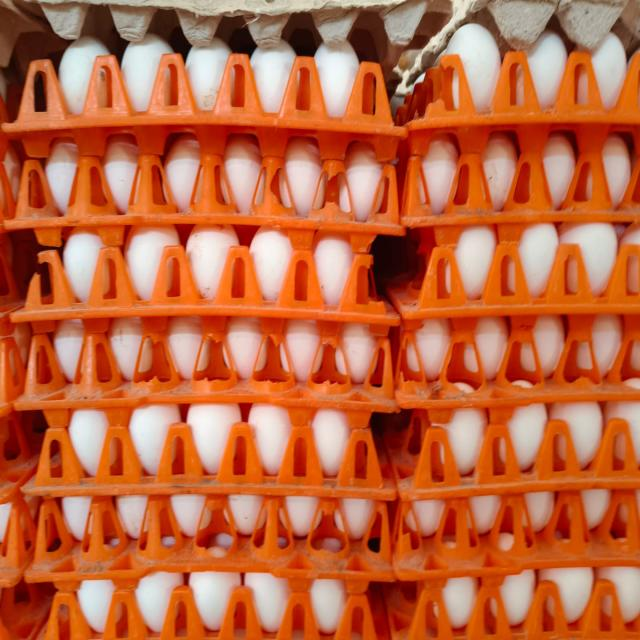egg_tray: (12, 35, 404, 244), (6, 54, 404, 237), (3, 36, 405, 161), (402, 34, 640, 226), (3, 132, 404, 245), (386, 402, 640, 579), (14, 225, 399, 326), (24, 403, 395, 506), (15, 316, 395, 412), (26, 494, 393, 581), (400, 25, 640, 142), (54, 33, 362, 123), (396, 23, 633, 132), (385, 401, 640, 501), (387, 221, 640, 319), (402, 123, 640, 227), (43, 569, 388, 639), (396, 314, 640, 409), (393, 489, 640, 579), (384, 566, 640, 639), (0, 408, 44, 587), (0, 232, 36, 423), (0, 231, 37, 415), (0, 405, 46, 503), (0, 485, 40, 590), (0, 232, 38, 338), (0, 230, 41, 318), (0, 305, 30, 423), (0, 306, 31, 416), (0, 579, 52, 639), (0, 321, 32, 386), (0, 131, 22, 225), (0, 129, 22, 222), (0, 131, 21, 221), (0, 69, 21, 124), (0, 154, 14, 226), (0, 79, 22, 123), (366, 81, 388, 115), (29, 85, 51, 112), (0, 91, 10, 124), (0, 93, 10, 125), (159, 92, 186, 102), (0, 129, 8, 158), (0, 95, 8, 123), (459, 25, 482, 34), (207, 135, 223, 147), (36, 60, 53, 70), (362, 101, 374, 114), (0, 127, 11, 138), (0, 169, 7, 185), (364, 63, 379, 70), (0, 96, 4, 121), (534, 140, 544, 148), (499, 414, 509, 421), (8, 87, 14, 98), (272, 139, 283, 145), (0, 130, 8, 138), (318, 45, 326, 53), (484, 30, 491, 38), (114, 110, 122, 116), (61, 59, 69, 65), (0, 453, 3, 468), (236, 110, 242, 117), (0, 426, 5, 434), (595, 117, 603, 122), (198, 130, 204, 135), (35, 70, 42, 74), (373, 127, 378, 132), (382, 118, 387, 123), (5, 214, 13, 217), (292, 497, 298, 501), (486, 32, 490, 38), (49, 231, 53, 237), (0, 427, 4, 432), (15, 187, 18, 193), (471, 149, 477, 152), (0, 197, 2, 205), (23, 189, 28, 192), (423, 124, 428, 127), (57, 230, 59, 237), (168, 217, 171, 221), (0, 78, 4, 81), (243, 119, 246, 123), (42, 116, 48, 118), (11, 100, 17, 102), (166, 105, 177, 106), (15, 105, 17, 110), (15, 186, 18, 189), (5, 154, 8, 157), (93, 220, 96, 223), (9, 109, 12, 112), (269, 153, 278, 154), (15, 193, 17, 197), (0, 454, 2, 458), (0, 477, 2, 481), (286, 497, 288, 501), (49, 198, 50, 205), (58, 229, 59, 236), (638, 165, 640, 168), (202, 142, 204, 145), (268, 138, 271, 140), (7, 511, 8, 517), (121, 227, 124, 229), (2, 75, 4, 78), (490, 410, 492, 413), (626, 86, 628, 89), (634, 67, 636, 70), (479, 500, 482, 502), (204, 52, 206, 55), (0, 461, 1, 466), (7, 314, 8, 319), (156, 63, 157, 68), (492, 415, 493, 420), (22, 380, 23, 384), (314, 111, 316, 113), (49, 241, 51, 243), (0, 473, 1, 476), (0, 202, 1, 204), (0, 472, 1, 474), (0, 471, 1, 473), (483, 69, 484, 71), (22, 207, 24, 208), (293, 132, 295, 133), (13, 307, 15, 308), (307, 123, 308, 125), (102, 112, 104, 113), (8, 100, 10, 101), (160, 151, 162, 152), (0, 480, 1, 481), (0, 269, 1, 270), (0, 607, 1, 608), (0, 489, 1, 490), (178, 500, 179, 501), (7, 394, 8, 395), (174, 113, 175, 114), (609, 118, 610, 119), (284, 140, 285, 141), (3, 229, 3, 230), (532, 139, 532, 141), (4, 70, 4, 72), (392, 158, 392, 159), (314, 507, 314, 508), (300, 498, 302, 498), (8, 154, 8, 154), (365, 123, 366, 123), (361, 123, 362, 123), (76, 118, 76, 119), (174, 110, 175, 110), (116, 47, 118, 47), (21, 150, 21, 150), (343, 149, 343, 150), (322, 145, 323, 145)
